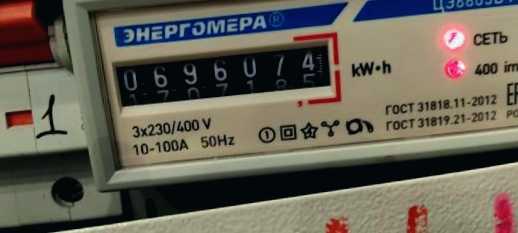0: (118, 65, 139, 91), (239, 52, 258, 78)
4: (297, 46, 315, 70)
5: (300, 71, 318, 87)
6: (210, 54, 230, 82), (150, 62, 169, 88)
7: (269, 50, 288, 76)
9: (180, 58, 198, 86)
screen: (100, 27, 346, 118)
